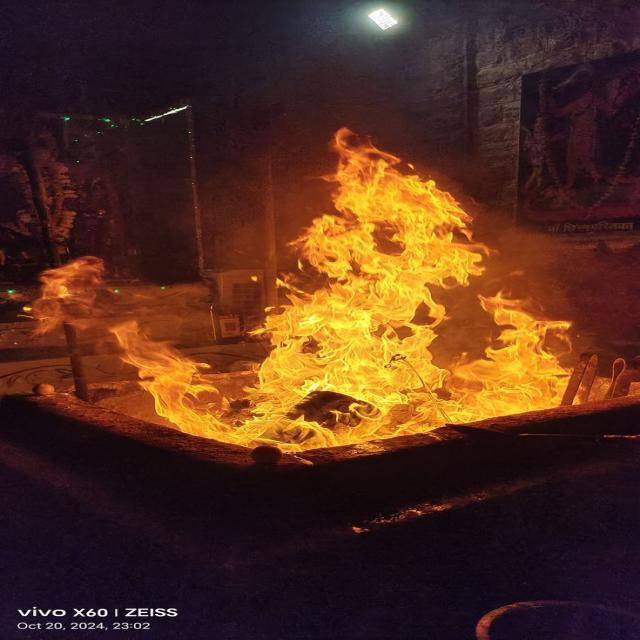fire: (36, 136, 595, 447)
